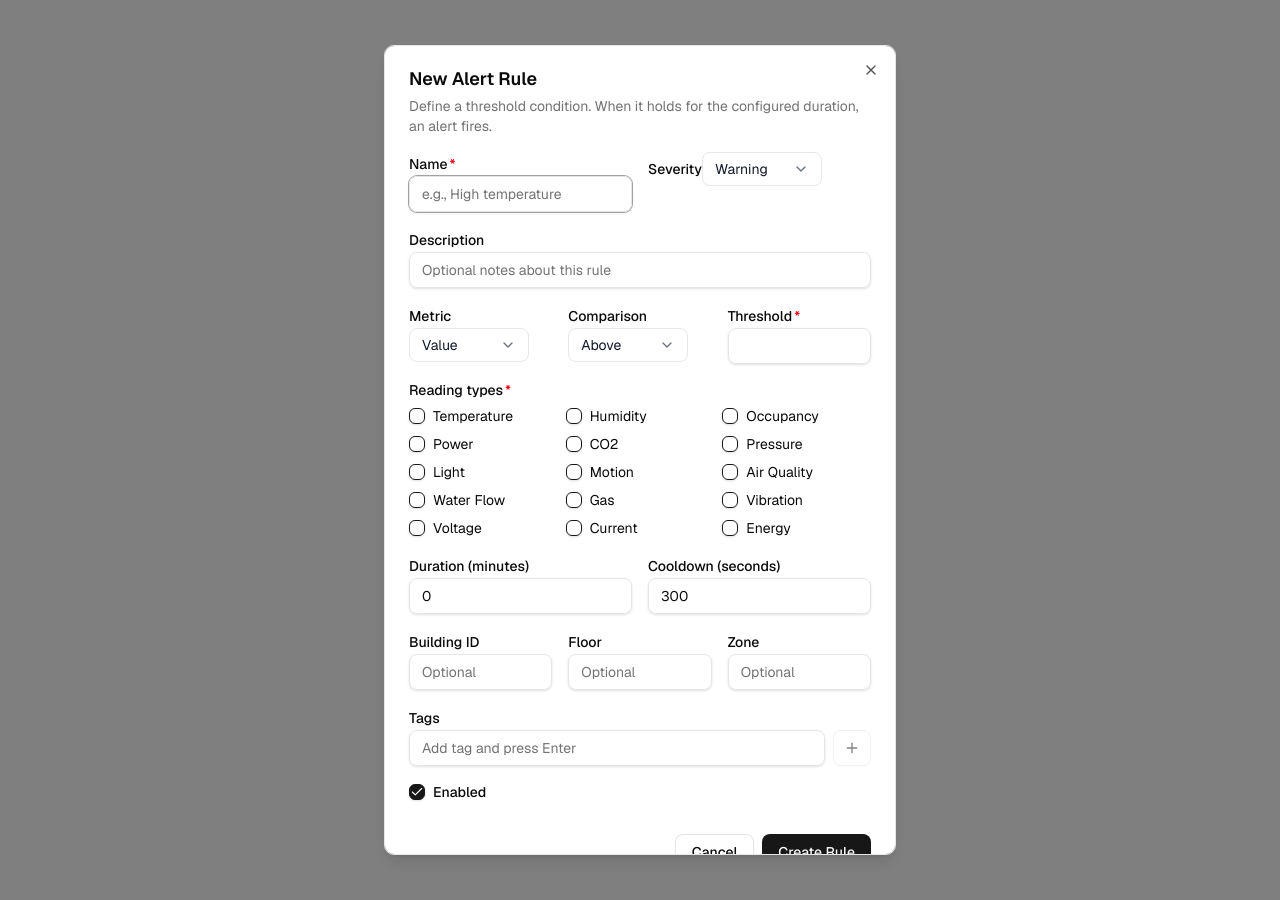
Scenario: CreateAlertRuleModal › should reject a battery_level threshold above 100
The image size is (1280, 900).
Type "Bad battery rule" into the field labelled "Name*" at x=520, y=194, box [409,176,632,212]
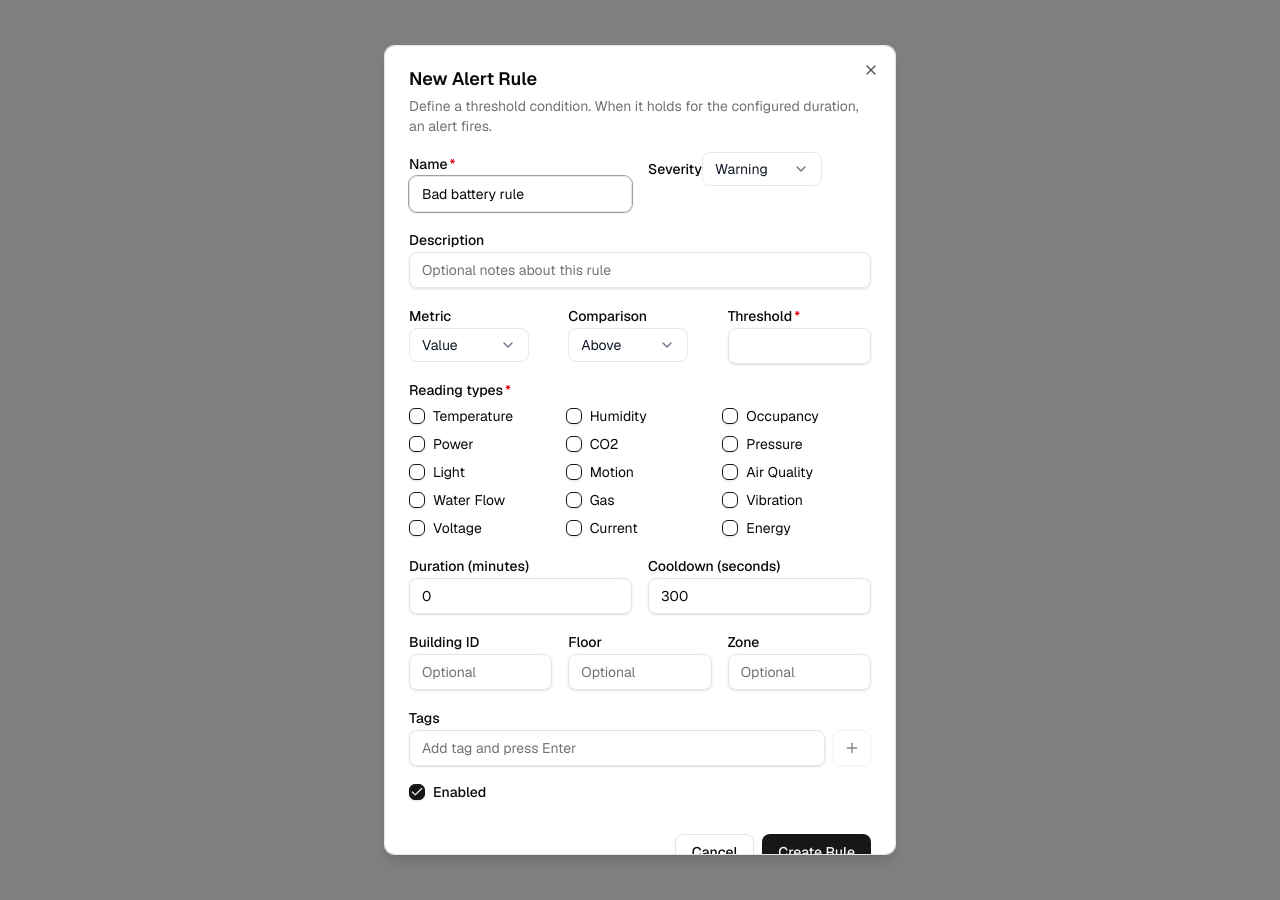
Click the button named "metric" at x=469, y=345, box [409,328,529,362]
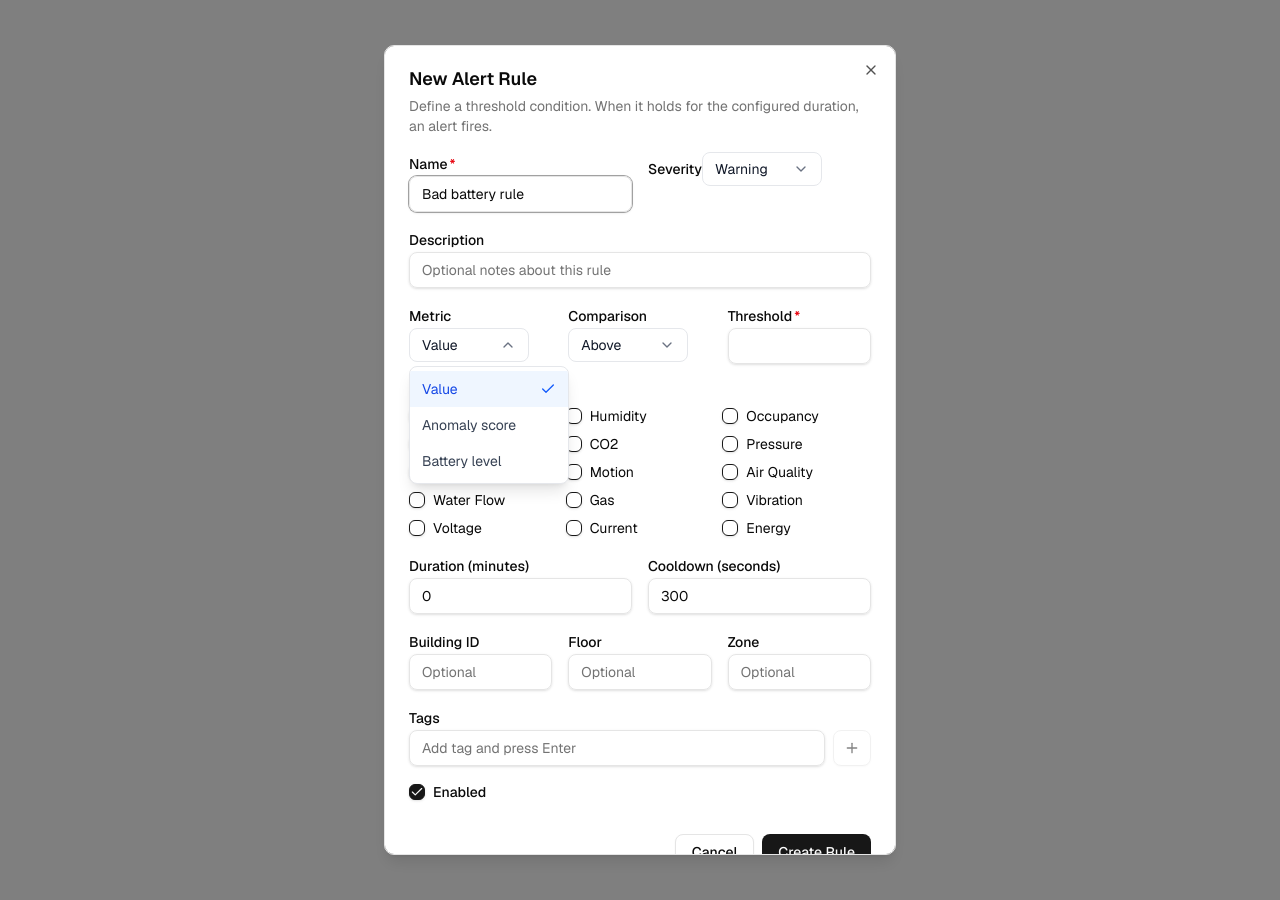
Click the option "Battery level" at x=489, y=461, box [410,443,568,479]
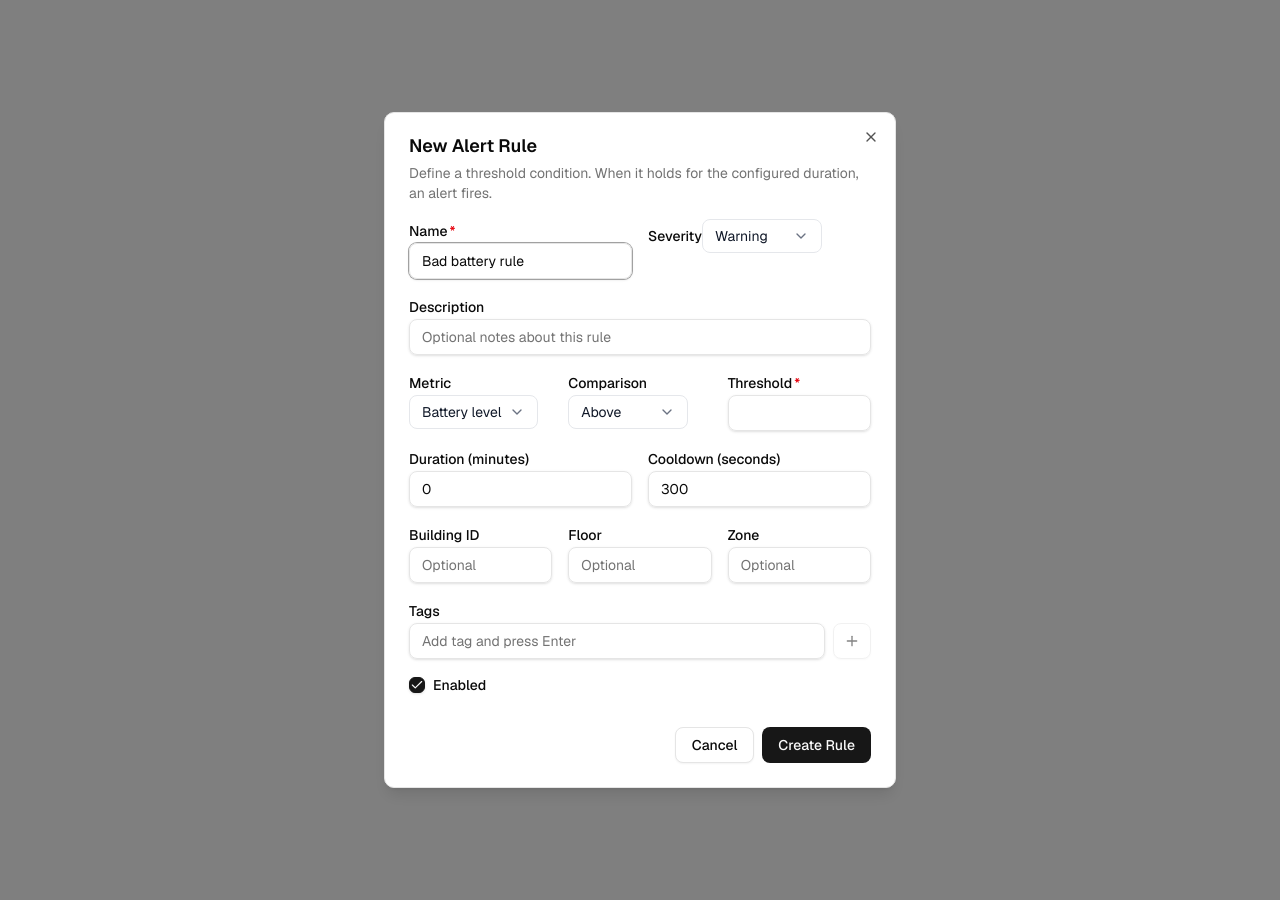
Type "150" into the number field labelled "Threshold*" at x=799, y=413, box [728,395,871,431]
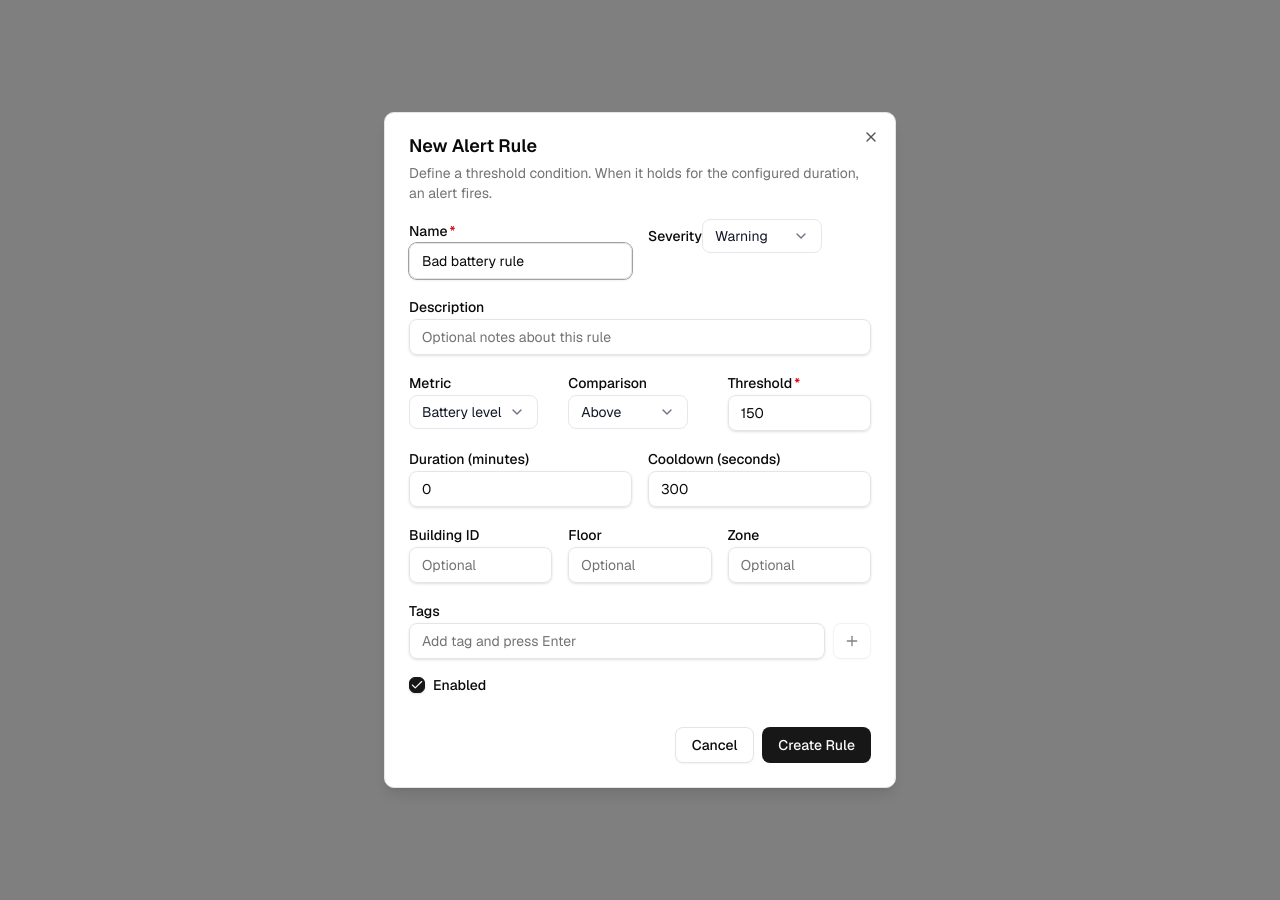
Click the button "Create Rule" at x=817, y=745, box [762,727,871,763]
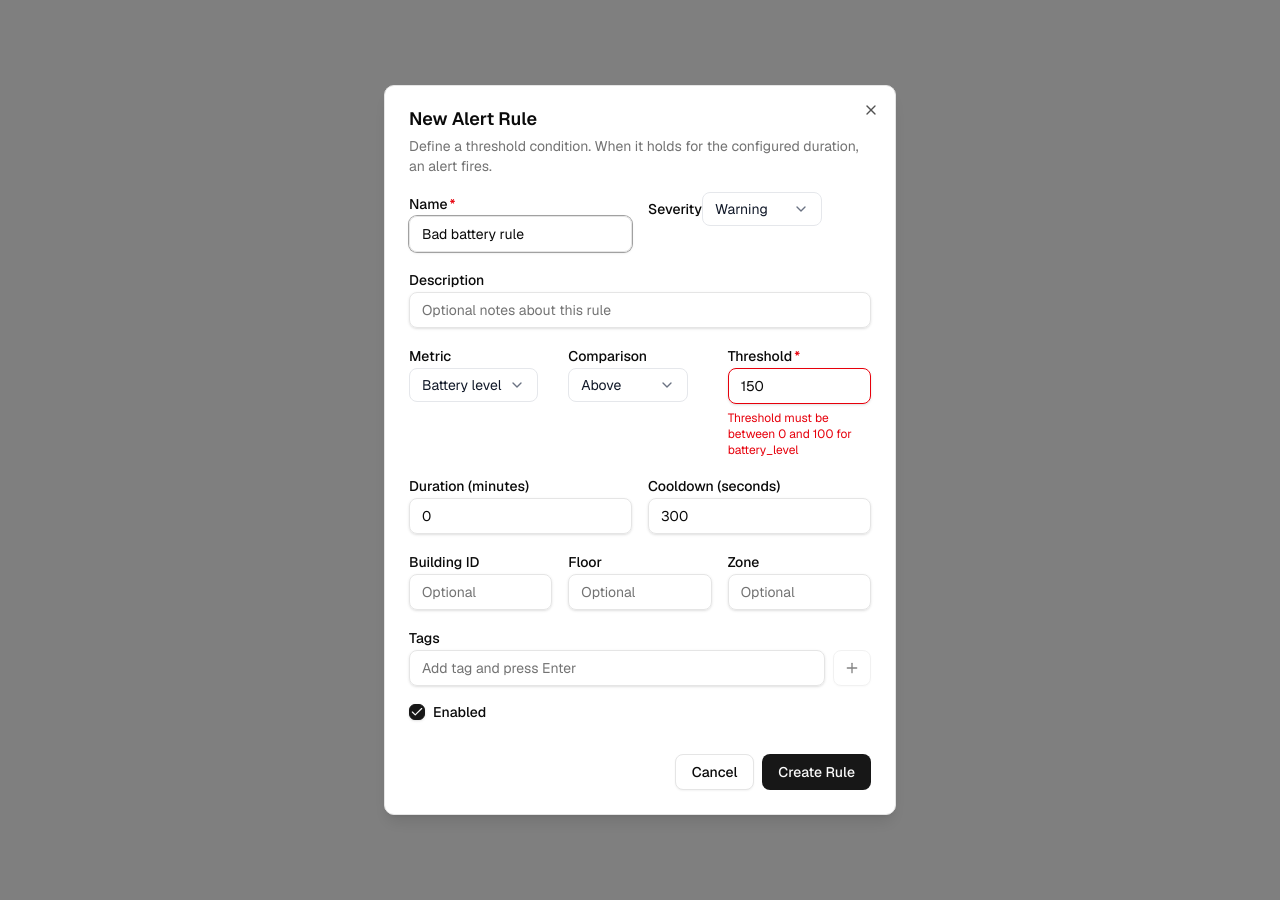
Check: the text "Threshold must be between 0 and 100 for battery_level" is shown, box [728,410,871,458]
